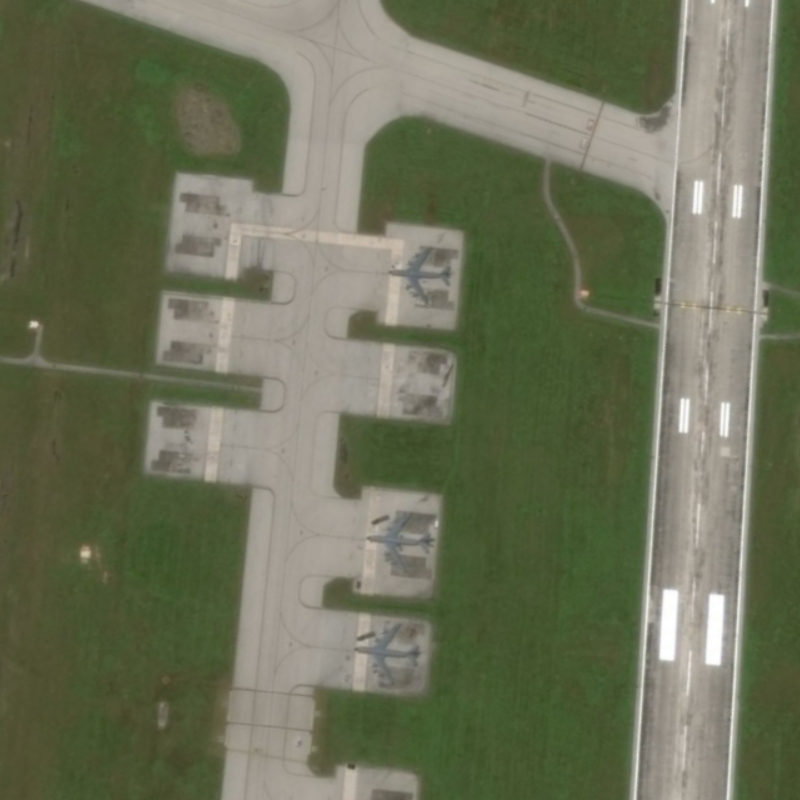A14: (364, 511, 435, 578), (351, 621, 421, 687), (386, 244, 453, 305)
